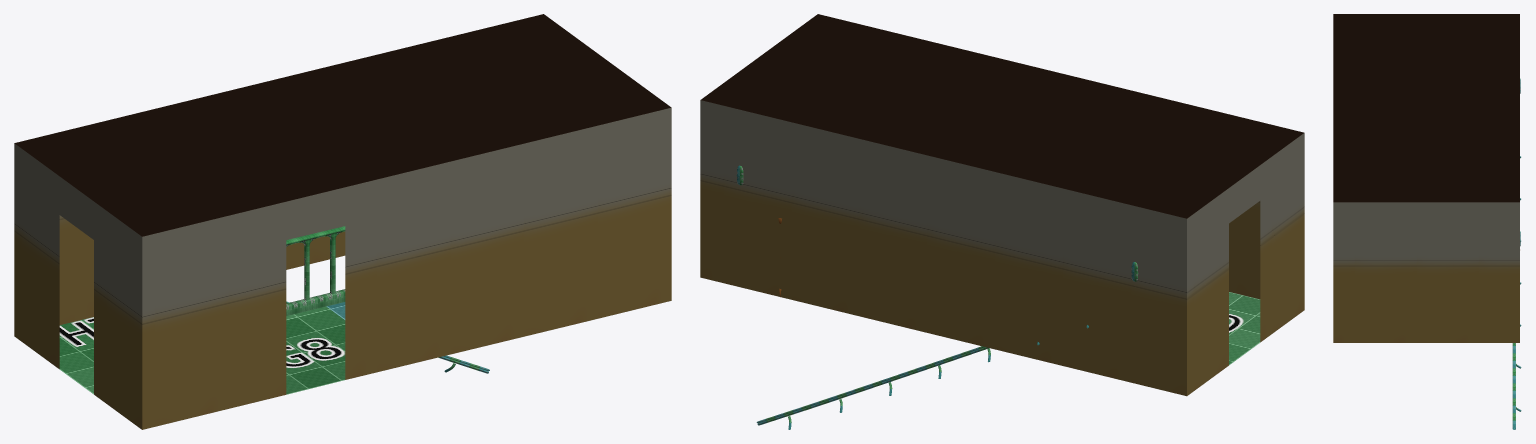
Rendered from flur_oben.obj.
The picture shows the model from 3 angles, left to right: view 1: azimuth 30°, elevation 25°; view 2: azimuth 150°, elevation 25°; view 3: azimuth 270°, elevation 25°; orthographic projection. The views are drawn at different scales.
Visible parts, largest first — view 1: Cube, Plane; view 2: Cube, Plane.002; view 3: Cube, Plane.002.
Part boxes in pixels (x1,y1,x2,y2): Cube: [14, 14, 671, 429]; Plane: [286, 226, 345, 315]; Cube: [700, 14, 1304, 396]; Plane.002: [756, 346, 989, 425]; Cube: [1333, 14, 1519, 342]; Plane.002: [1512, 343, 1515, 429].
Size of the model in its own units: 7.17 by 4.43 by 3.03.
10 materials, 9 textured.
